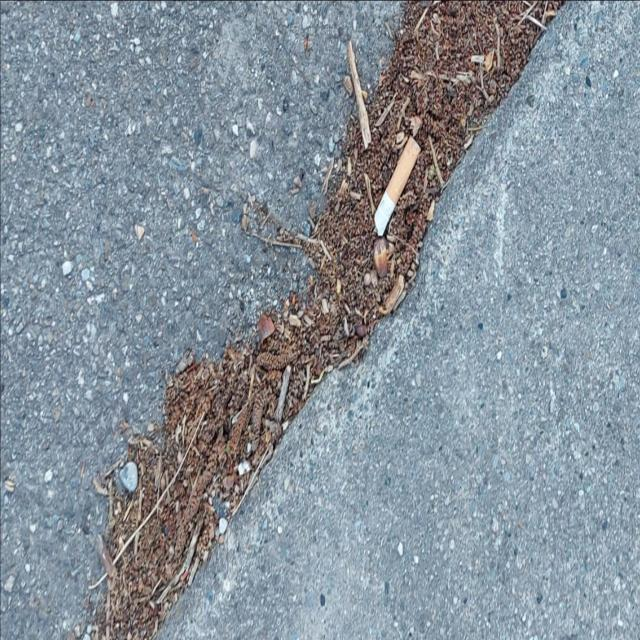other waste: (372, 134, 420, 237)
